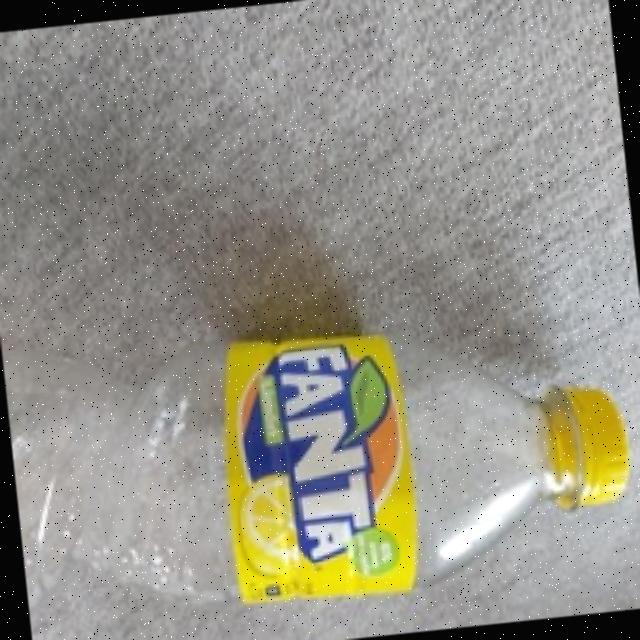bottle: (0, 265, 640, 637)
label: (208, 308, 426, 627)
